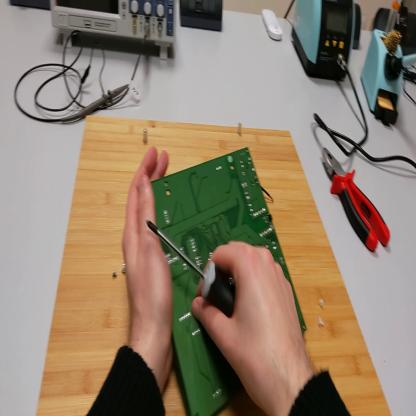hand: (193, 240, 310, 404), (123, 146, 176, 347)
low voltage board: (148, 147, 305, 415)
oscilloscope: (52, 2, 176, 64)
oscilloscope probe tip: (62, 84, 131, 124)
pliers: (326, 150, 391, 253)
screwdriver-: (149, 223, 238, 320)
socket: (400, 12, 416, 49), (10, 2, 53, 13), (354, 5, 363, 49)
welder base: (362, 2, 407, 125)
welder probe tip: (392, 54, 416, 75)
welder station: (292, 3, 357, 84)
working area: (38, 116, 391, 416)
